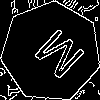M: (26, 26, 86, 88)
